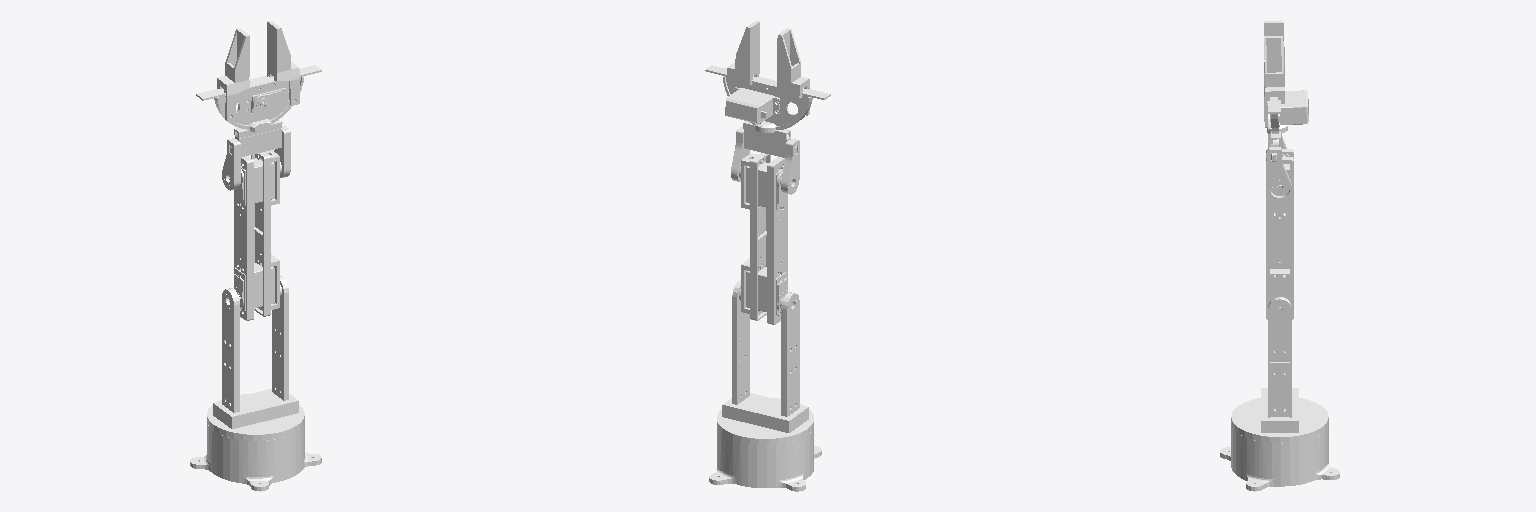
robot.urdf — ur_arm:
<?xml version="1.0" encoding="utf-8"?>
<!-- This URDF was automatically created by SolidWorks to URDF Exporter! Originally created by [author] ([email redacted]) 
     Commit Version: 1.6.0-4-g7f85cfe  Build Version: 1.6.7995.38578
     For more information, please see http://wiki.ros.org/sw_urdf_exporter -->
<robot
  name="ur_arm">
  <link
    name="base_link">
    <inertial>
      <origin
        xyz="0.000187977416899944 0.000386906676497267 0.0210651773735545"
        rpy="0 0 0" />
      <mass
        value="0.0971002124921789" />
      <inertia
        ixx="0.000126290753658982"
        ixy="-3.98073630009447E-06"
        ixz="-5.90945358259854E-07"
        iyy="0.000120029056021776"
        iyz="-1.21651133817239E-06"
        izz="0.000205846014629657" />
    </inertial>
    <visual>
      <origin
        xyz="0 0 0"
        rpy="0 0 0" />
      <geometry>
        <mesh
          filename="package://ur_arm/meshes/base_link.STL" />
      </geometry>
      <material
        name="">
        <color
          rgba="1 1 1 1" />
      </material>
    </visual>
    <collision>
      <origin
        xyz="0 0 0"
        rpy="0 0 0" />
      <geometry>
        <mesh
          filename="package://ur_arm/meshes/base_link.STL" />
      </geometry>
    </collision>
  </link>
  <link
    name="Link1">
    <inertial>
      <origin
        xyz="-0.00040859 -0.02867 0.00085855"
        rpy="0 0 0" />
      <mass
        value="0.14139" />
      <inertia
        ixx="0.0002106"
        ixy="3.3272E-05"
        ixz="-1.0701E-06"
        iyy="0.00012359"
        iyz="3.6479E-06"
        izz="0.00023886" />
    </inertial>
    <visual>
      <origin
        xyz="0 0 0"
        rpy="0 0 0" />
      <geometry>
        <mesh
          filename="package://ur_arm/meshes/Link1.STL" />
      </geometry>
      <material
        name="">
        <color
          rgba="1 1 1 1" />
      </material>
    </visual>
    <collision>
      <origin
        xyz="0 0 0"
        rpy="0 0 0" />
      <geometry>
        <mesh
          filename="package://ur_arm/meshes/Link1.STL" />
      </geometry>
    </collision>
  </link>
  <joint
    name="joint1"
    type="revolute">
    <origin
      xyz="0 0 0.04869"
      rpy="-1.5394 0 0" />
    <parent
      link="base_link" />
    <child
      link="Link1" />
    <axis
      xyz="0 -0.99951 0.031373" />
    <limit
      lower="0"
      upper="0"
      effort="100"
      velocity="1" />
  </joint>
  <link
    name="Link2">
    <inertial>
      <origin
        xyz="0.0334449586618212 0.0685271675060545 -0.00215096289118835"
        rpy="0 0 0" />
      <mass
        value="0.122943710994718" />
      <inertia
        ixx="0.000119773624785502"
        ixy="7.19142469780315E-19"
        ixz="-2.27934106463869E-20"
        iyy="1.52410107196372E-05"
        iyz="3.33485484269343E-06"
        izz="0.000121388031837196" />
    </inertial>
    <visual>
      <origin
        xyz="0 0 0"
        rpy="0 0 0" />
      <geometry>
        <mesh
          filename="package://ur_arm/meshes/Link2.STL" />
      </geometry>
      <material
        name="">
        <color
          rgba="1 1 1 1" />
      </material>
    </visual>
    <collision>
      <origin
        xyz="0 0 0"
        rpy="0 0 0" />
      <geometry>
        <mesh
          filename="package://ur_arm/meshes/Link2.STL" />
      </geometry>
    </collision>
  </link>
  <joint
    name="joint2"
    type="revolute">
    <origin
      xyz="-0.03305 -0.14197 0.0044561"
      rpy="3.1416 0 0" />
    <parent
      link="Link1" />
    <child
      link="Link2" />
    <axis
      xyz="-1 0 0" />
    <limit
      lower="0"
      upper="0"
      effort="100"
      velocity="1" />
  </joint>
  <link
    name="Link3">
    <inertial>
      <origin
        xyz="0.00280459990209161 0.0619602440401176 0.0367843797766421"
        rpy="0 0 0" />
      <mass
        value="0.0852300368678392" />
      <inertia
        ixx="4.38404770804073E-05"
        ixy="3.84071439290302E-07"
        ixz="-7.49103854179788E-08"
        iyy="3.42169694960761E-05"
        iyz="5.62690796250091E-09"
        izz="1.95082152284413E-05" />
    </inertial>
    <visual>
      <origin
        xyz="0 0 0"
        rpy="0 0 0" />
      <geometry>
        <mesh
          filename="package://ur_arm/meshes/Link3.STL" />
      </geometry>
      <material
        name="">
        <color
          rgba="1 1 1 1" />
      </material>
    </visual>
    <collision>
      <origin
        xyz="0 0 0"
        rpy="0 0 0" />
      <geometry>
        <mesh
          filename="package://ur_arm/meshes/Link3.STL" />
      </geometry>
    </collision>
  </link>
  <joint
    name="joint3"
    type="revolute">
    <origin
      xyz="0 0.13793 -0.0043295"
      rpy="0 1.5708 0" />
    <parent
      link="Link2" />
    <child
      link="Link3" />
    <axis
      xyz="0 0 1" />
    <limit
      lower="0"
      upper="0"
      effort="100"
      velocity="1" />
  </joint>
  <link
    name="Link4_left">
    <inertial>
      <origin
        xyz="-0.017289711016892 -5.45991042466137E-05 0.0266369907714521"
        rpy="0 0 0" />
      <mass
        value="0.0194791159436959" />
      <inertia
        ixx="1.70355335129061E-06"
        ixy="-1.62752911557135E-07"
        ixz="-5.01575539559182E-07"
        iyy="3.67893000790413E-06"
        iyz="-8.11493770414506E-08"
        izz="3.7662440729562E-06" />
    </inertial>
    <visual>
      <origin
        xyz="0 0 0"
        rpy="0 0 0" />
      <geometry>
        <mesh
          filename="package://ur_arm/meshes/Link4_left.STL" />
      </geometry>
      <material
        name="">
        <color
          rgba="1 1 1 1" />
      </material>
    </visual>
    <collision>
      <origin
        xyz="0 0 0"
        rpy="0 0 0" />
      <geometry>
        <mesh
          filename="package://ur_arm/meshes/Link4_left.STL" />
      </geometry>
    </collision>
  </link>
  <joint
    name="joint4_left"
    type="prismatic">
    <origin
      xyz="-0.0026814 0.10369 0.0335"
      rpy="3.1416 0 -1.6022" />
    <parent
      link="Link3" />
    <child
      link="Link4_left" />
    <axis
      xyz="0 0 1" />
    <limit
      lower="0"
      upper="0"
      effort="100"
      velocity="1" />
  </joint>
  <link
    name="Link4_right">
    <inertial>
      <origin
        xyz="-0.0172897062203861 -5.4446293390284E-05 -0.0251507676490662"
        rpy="0 0 0" />
      <mass
        value="0.0194791159436959" />
      <inertia
        ixx="1.70354657168805E-06"
        ixy="-1.62758902517759E-07"
        ixz="5.01575291211585E-07"
        iyy="3.67893039067829E-06"
        iyz="8.11414649912117E-08"
        izz="3.76623767612795E-06" />
    </inertial>
    <visual>
      <origin
        xyz="0 0 0"
        rpy="0 0 0" />
      <geometry>
        <mesh
          filename="package://ur_arm/meshes/Link4_right.STL" />
      </geometry>
      <material
        name="">
        <color
          rgba="1 1 1 1" />
      </material>
    </visual>
    <collision>
      <origin
        xyz="0 0 0"
        rpy="0 0 0" />
      <geometry>
        <mesh
          filename="package://ur_arm/meshes/Link4_right.STL" />
      </geometry>
    </collision>
  </link>
  <joint
    name="joint4_right"
    type="prismatic">
    <origin
      xyz="-0.0026814 0.10369 0.0335"
      rpy="3.1416 0 -1.6022" />
    <parent
      link="Link3" />
    <child
      link="Link4_right" />
    <axis
      xyz="0 0 1" />
    <limit
      lower="0"
      upper="0"
      effort="100"
      velocity="1" />
  </joint>
</robot>

--- What the picture shows (computed from the rendered views, not written in the file) ---
The picture shows the robot from 3 angles, left to right: view 1: azimuth 30°, elevation 25°; view 2: azimuth 150°, elevation 25°; view 3: azimuth 270°, elevation 25°; orthographic projection.
Robot: ur_arm — 6 links, 5 joints (3 revolute, 2 prismatic); root link base_link; default pose: all joints at 0.
Links seen in each view (by area): view 1: Link1, Link2, Link3, base_link, Link4_left, Link4_right; view 2: Link1, Link2, Link3, base_link, Link4_left, Link4_right; view 3: Link1, base_link, Link2, Link3, Link4_right.
Boxes of the visible links, bbox=[...] form: Link1: bbox=[207, 276, 304, 440]; Link2: bbox=[229, 150, 281, 320]; Link3: bbox=[196, 65, 321, 190]; base_link: bbox=[190, 423, 321, 491]; Link4_left: bbox=[217, 28, 249, 121]; Link4_right: bbox=[267, 21, 299, 105]; Link1: bbox=[717, 280, 813, 444]; Link2: bbox=[739, 153, 791, 324]; Link3: bbox=[705, 65, 830, 194]; base_link: bbox=[709, 428, 821, 491]; Link4_left: bbox=[777, 28, 809, 115]; Link4_right: bbox=[727, 21, 759, 85]; Link1: bbox=[1231, 297, 1328, 443]; base_link: bbox=[1220, 425, 1339, 491]; Link2: bbox=[1266, 149, 1293, 319]; Link3: bbox=[1267, 90, 1308, 199]; Link4_right: bbox=[1264, 36, 1284, 127].
Size in the robot's own frame: 0.1404 by 0.1233 by 0.4931 metres.
Meshes: 6 distinct files referenced, 6 mesh visuals loaded (6 binary STL).